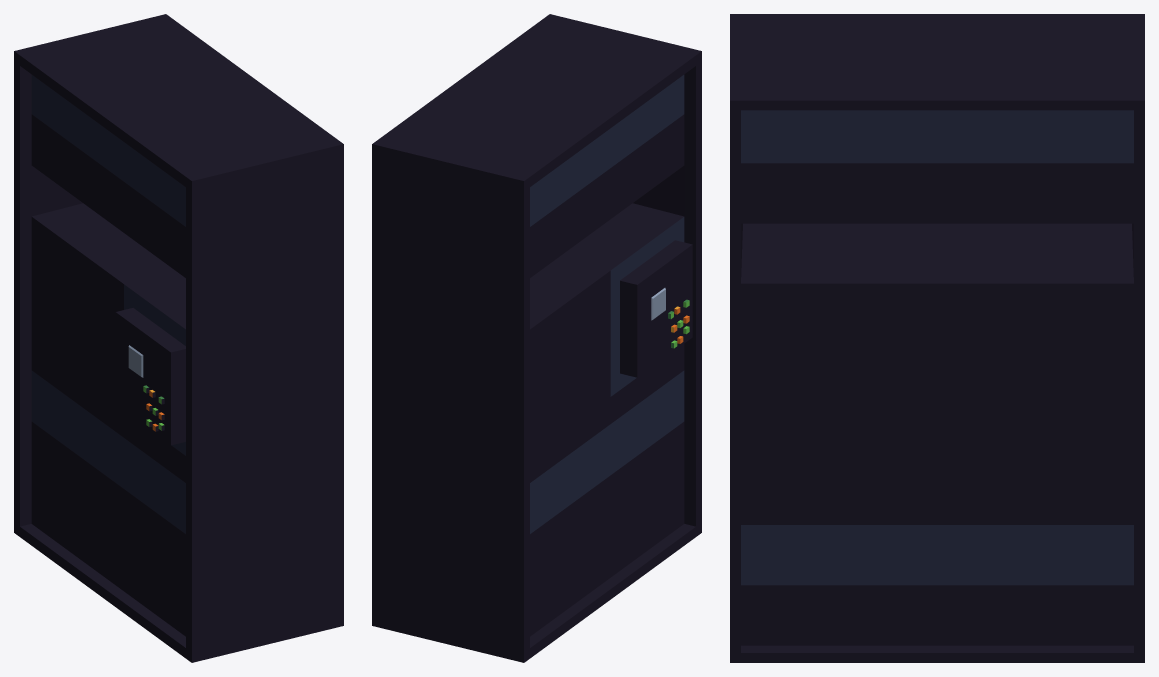
Rendered from server.glb.
The picture shows the model from 3 angles, left to right: view 1: azimuth 30°, elevation 25°; view 2: azimuth 150°, elevation 25°; view 3: azimuth 270°, elevation 25°; orthographic projection. The views are drawn at different scales.
Parts seen in each view (by area): view 1: Cube; view 2: Cube; view 3: Cube.
Part boxes in pixels (<box>): Cube: <box>14,14,343,662</box>; Cube: <box>372,14,701,662</box>; Cube: <box>730,14,1144,662</box>.
Size of the model in its own units: 2.12 by 6.06 by 4.05.
Materials: 1 (1 with a texture image).
